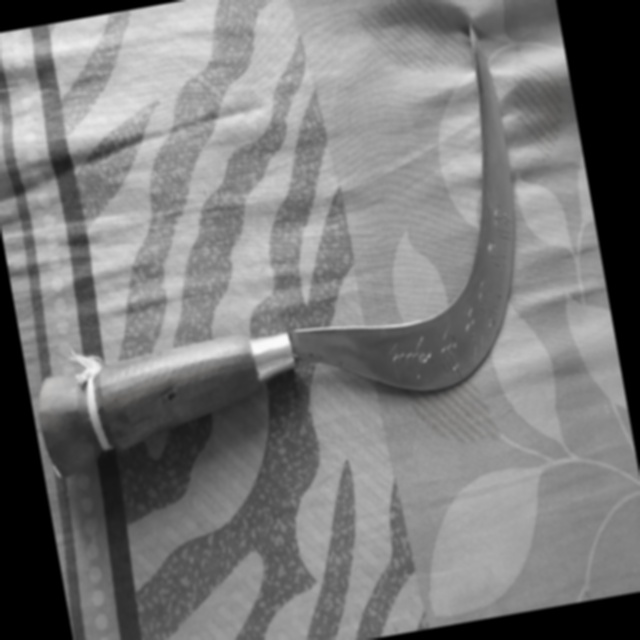Sharp-Object: (0, 18, 552, 472)
